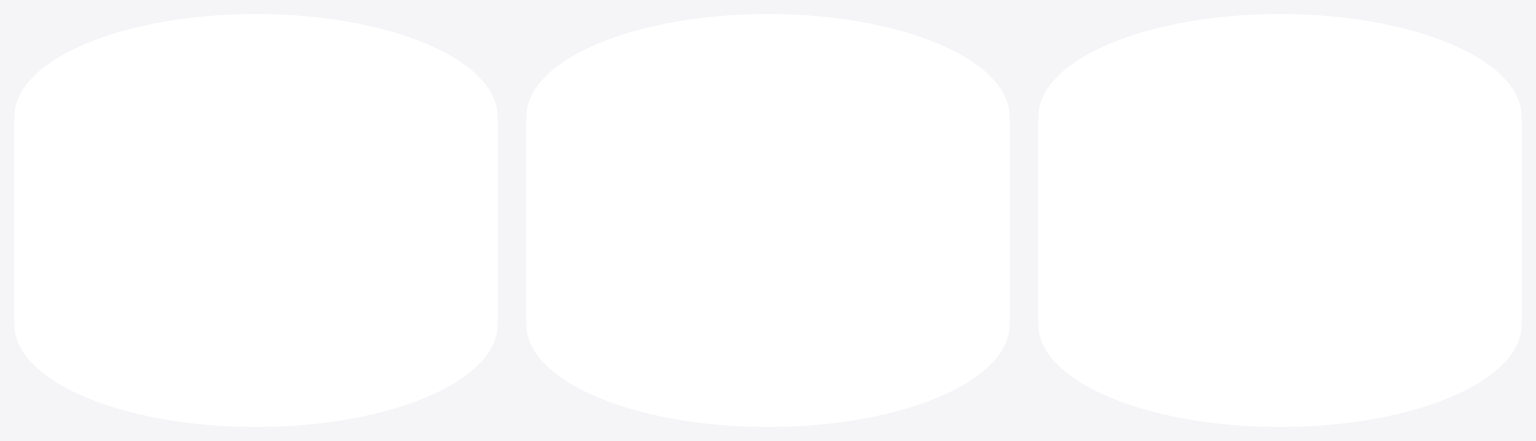
Rendered from curtain_near.glb.
3 views of the same model, side by side, from view 1: azimuth 30°, elevation 25°; view 2: azimuth 150°, elevation 25°; view 3: azimuth 270°, elevation 25° (orthographic).
Size of the model in its own units: 128 by 61 by 128.
Materials: 1 (1 with a texture image).
